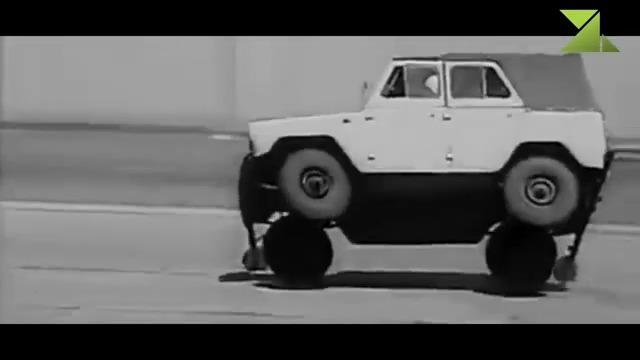MIL_HMMWV: (238, 52, 615, 283)
